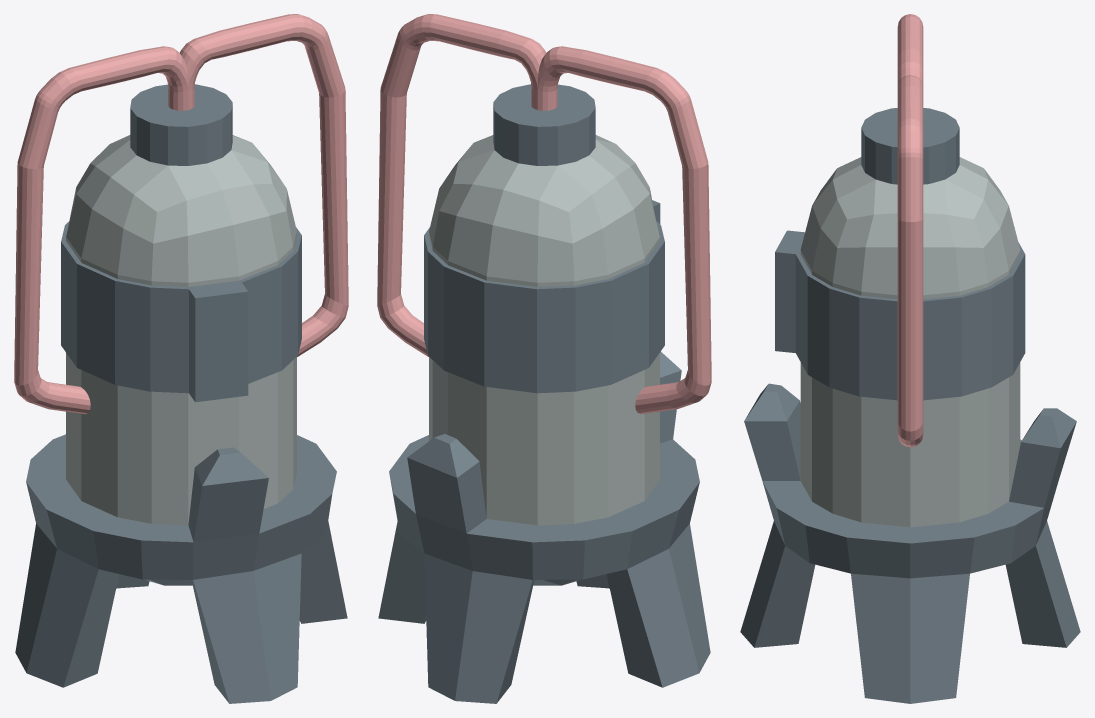
File: Tanks_1_Red 2.fbx
The picture shows the model from 3 angles, left to right: view 1: azimuth 30°, elevation 25°; view 2: azimuth 150°, elevation 25°; view 3: azimuth 270°, elevation 25°; orthographic projection. The views are drawn at different scales.
Visible parts, largest first — view 1: ReservoirTank.002; view 2: ReservoirTank.002; view 3: ReservoirTank.002.
Boxes of the visible parts, box(x1,y1,x2,y2) form: ReservoirTank.002: box(14, 14, 348, 703); ReservoirTank.002: box(377, 14, 711, 703); ReservoirTank.002: box(740, 14, 1080, 703).
Bounding box in the file's own units: 435 × 747 × 408.
